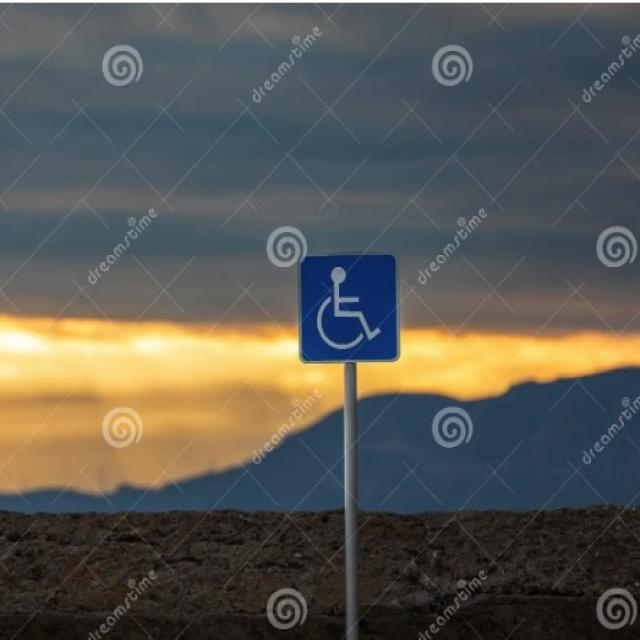symbol_of_access: (294, 251, 402, 364)
